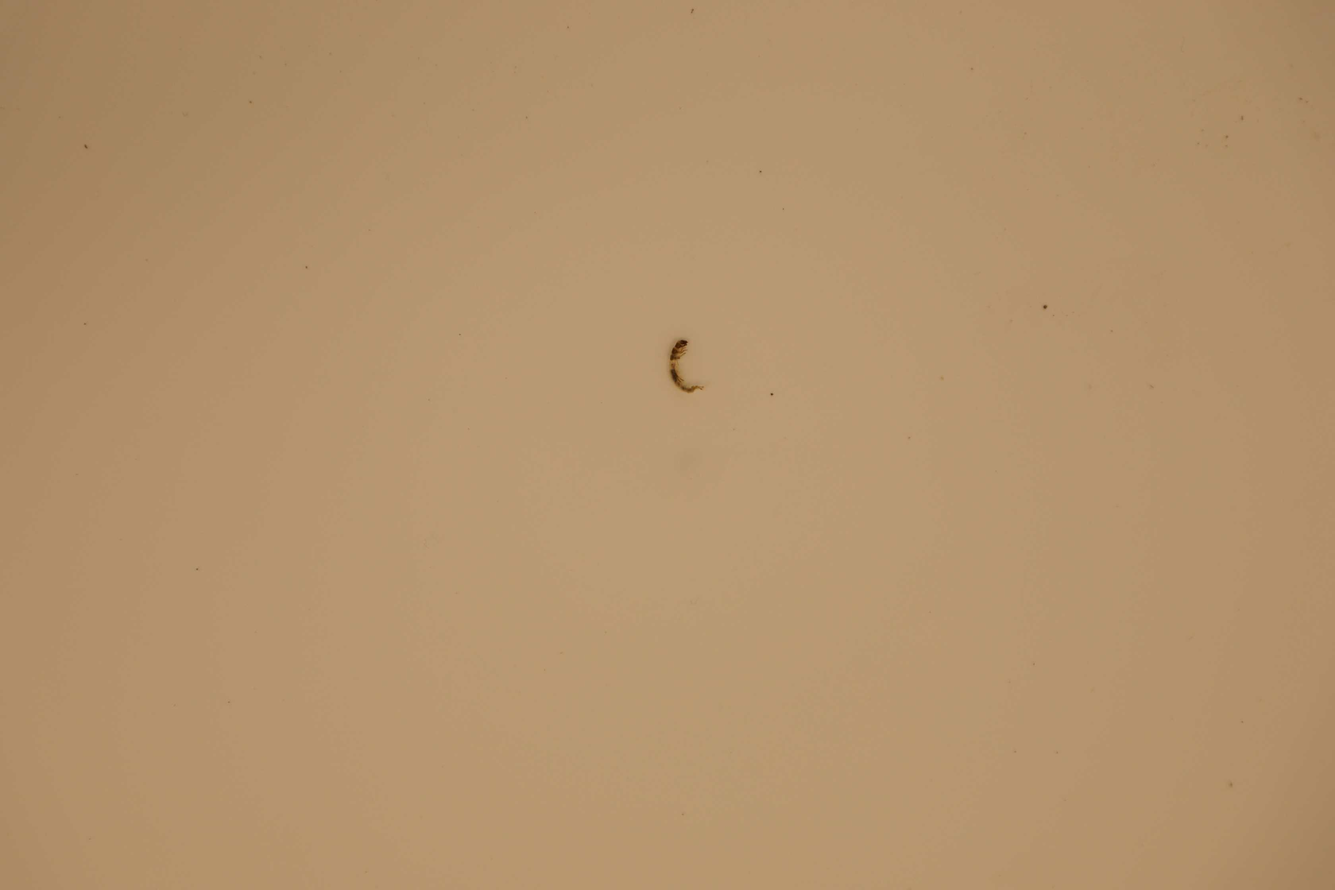Cadisfly: (662, 335, 703, 403)
